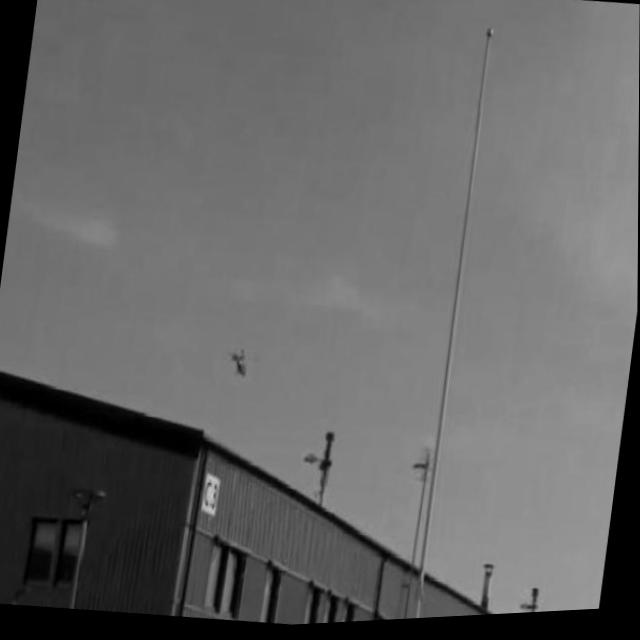helikopter: (218, 333, 263, 393)
